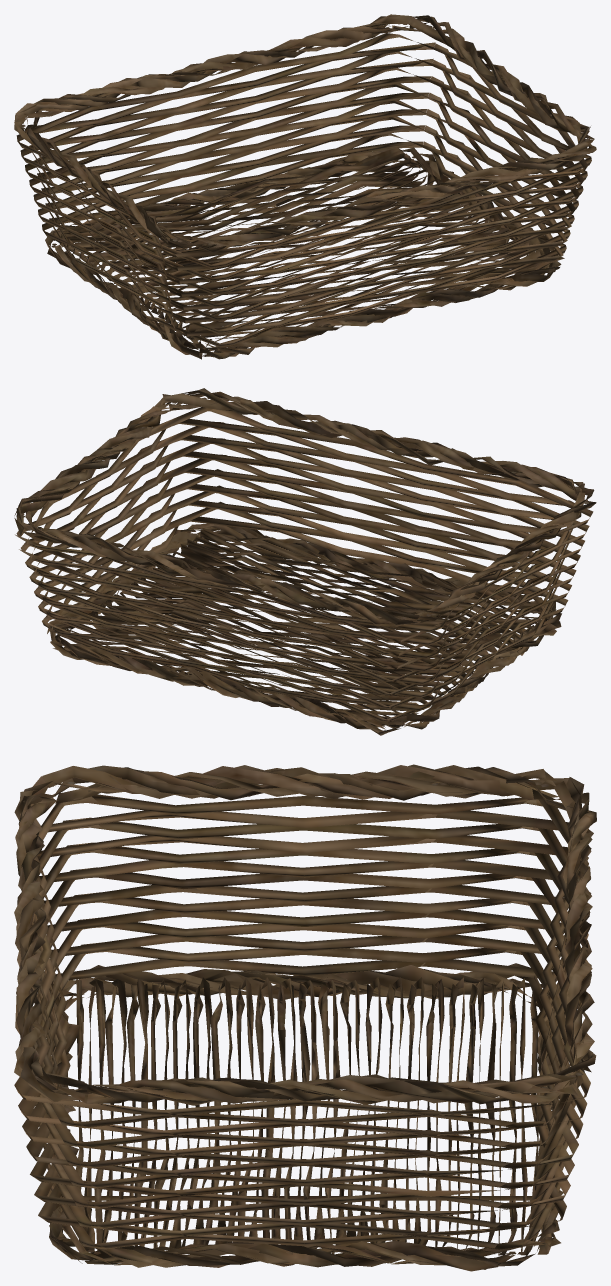
The model's file is wicker_basket_01.glb.
3 views of the same model, one above another, from view 1: azimuth 30°, elevation 25°; view 2: azimuth 150°, elevation 25°; view 3: azimuth 270°, elevation 25° (orthographic). The views are drawn at different scales.
Visible parts, largest first — view 1: wicker_basket_01; view 2: wicker_basket_01; view 3: wicker_basket_01.
Boxes of the visible parts, x1=… form: wicker_basket_01: x1=14, y1=14, x2=596, y2=359; wicker_basket_01: x1=14, y1=388, x2=596, y2=735; wicker_basket_01: x1=14, y1=764, x2=596, y2=1271.
Bounding box in the file's own units: 0.3837 × 0.1186 × 0.2932.
1 material, 1 textured.
